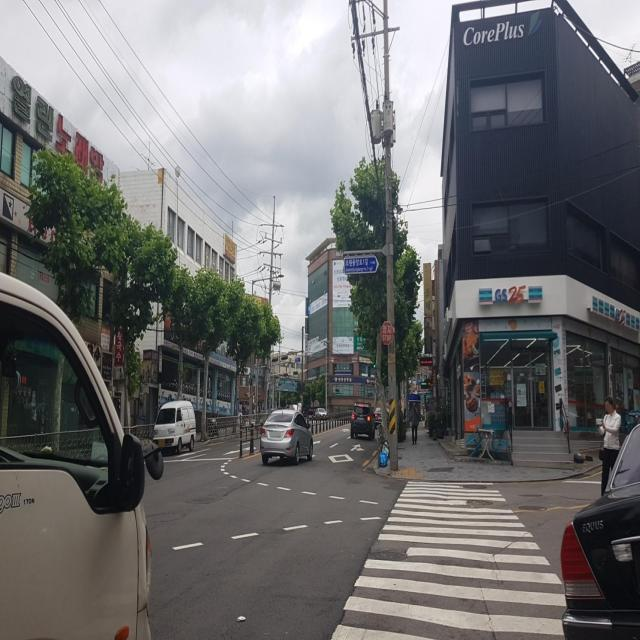횡단보도: (329, 477, 568, 638)
